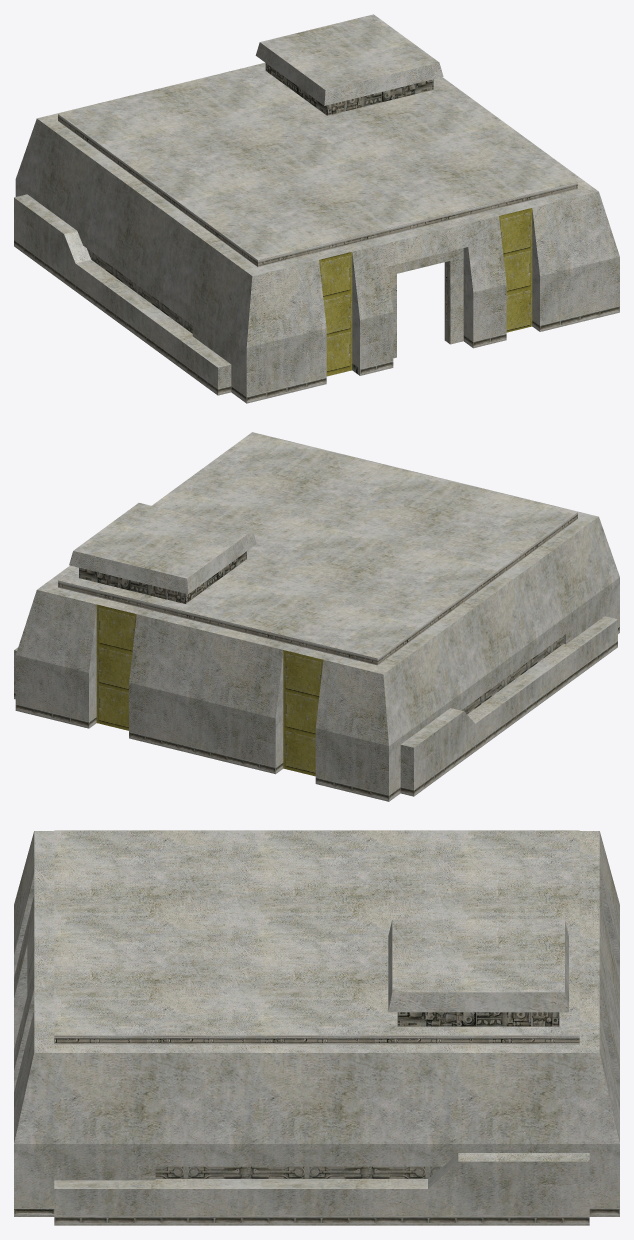
Rendered from poi_all_rebl_bunker_s01_r0_exterior_mesh_exterior_l0.fbx.
3 views of the same model, one above another, from view 1: azimuth 30°, elevation 25°; view 2: azimuth 150°, elevation 25°; view 3: azimuth 270°, elevation 25° (orthographic). The views are drawn at different scales.
Visible parts, largest first — view 1: mesh_node; view 2: mesh_node; view 3: mesh_node.
Part boxes in pixels (x1=…): mesh_node: x1=14, y1=14, x2=619, y2=403; mesh_node: x1=14, y1=432, x2=619, y2=801; mesh_node: x1=14, y1=830, x2=619, y2=1225.
Bounding box in the file's own units: 15 × 5.5 × 15.
